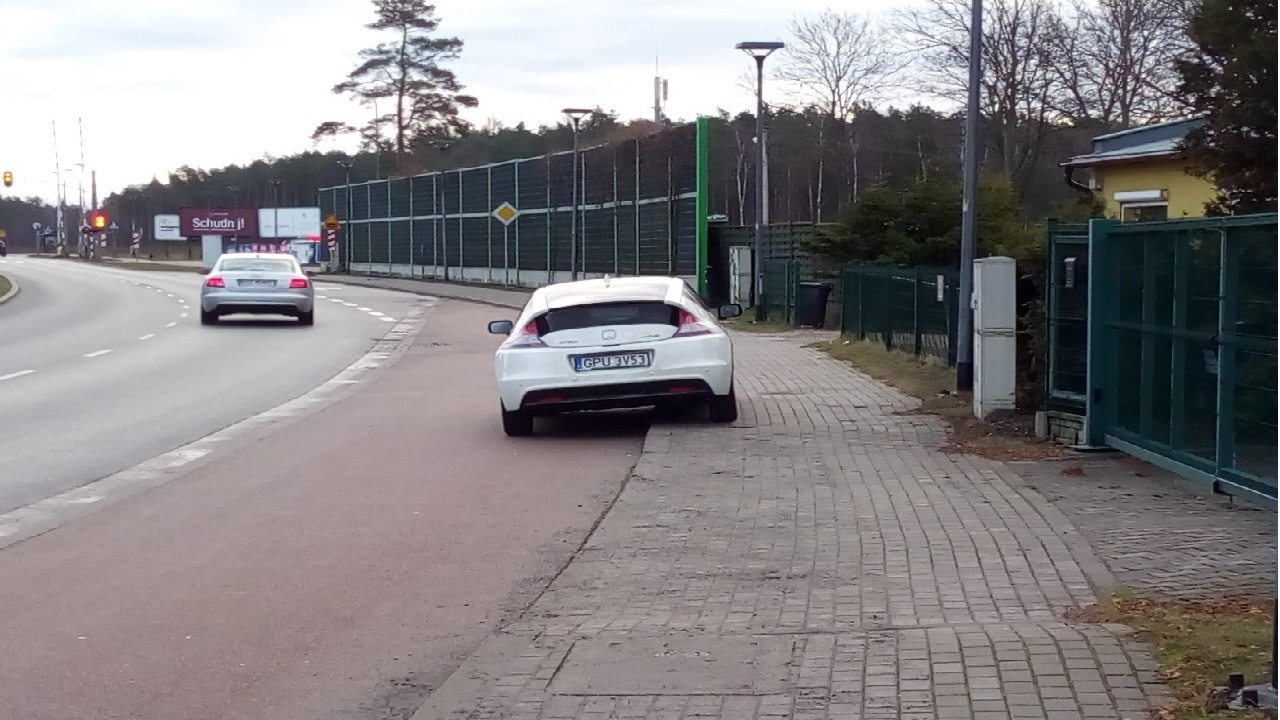D1: (492, 201, 521, 226)
